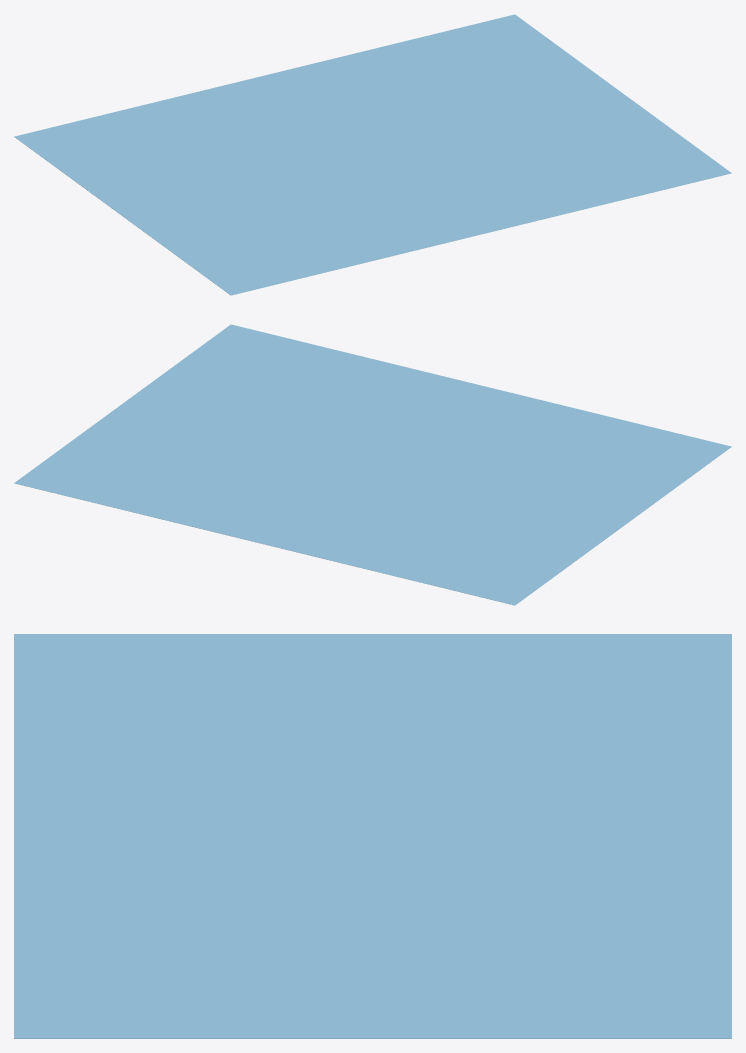
Rendered from ground.dae.
The picture shows the model from 3 angles, top to bottom: view 1: azimuth 30°, elevation 25°; view 2: azimuth 150°, elevation 25°; view 3: azimuth 270°, elevation 25°; orthographic projection. The views are drawn at different scales.
Visible parts, largest first — view 1: ID2; view 2: ID2; view 3: ID2.
Part boxes in pixels (x1,y1,x2,y2): ID2: (14,14,731,295); ID2: (14,324,731,605); ID2: (14,634,731,1038).
Size of the model in its own units: 80 by 60 by 0.025.
